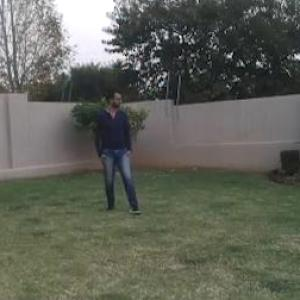follow: (95, 82, 135, 217)
